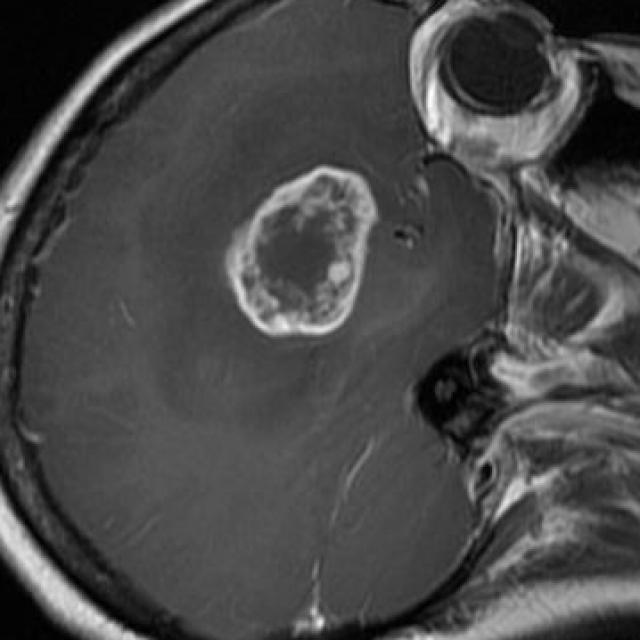glioma: (225, 166, 380, 341)
